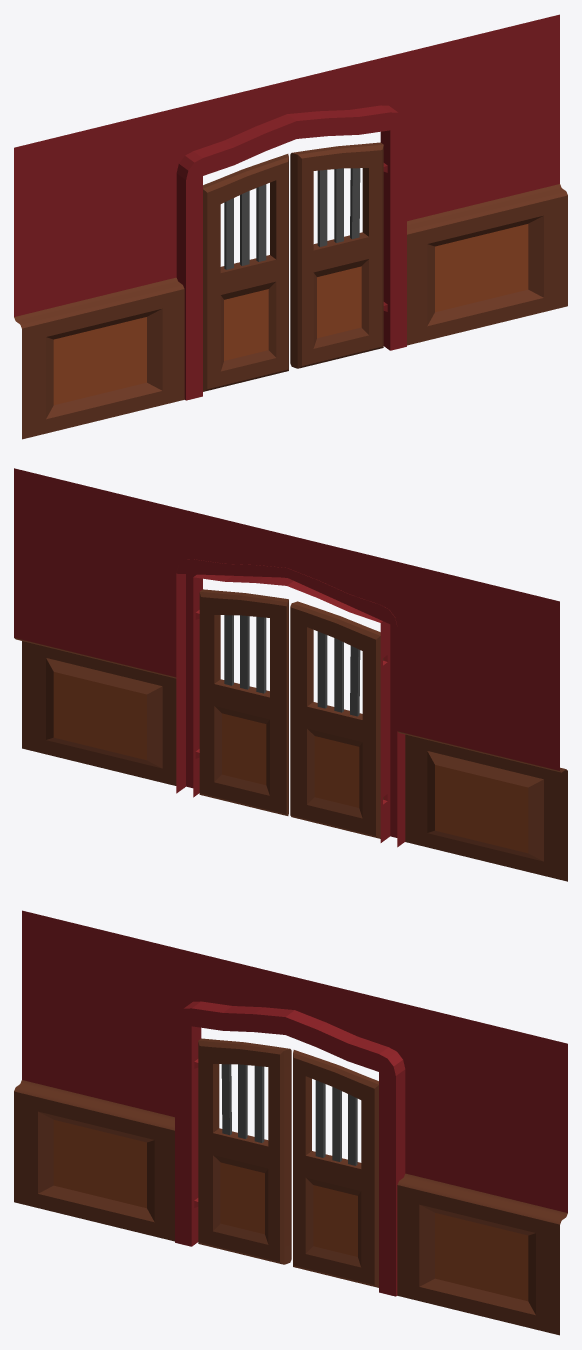
File: NewSaloonDoor.fbx
The picture shows the model from 3 angles, top to bottom: view 1: azimuth 30°, elevation 25°; view 2: azimuth 150°, elevation 25°; view 3: azimuth 330°, elevation 25°; orthographic projection.
Parts seen in each view (by area): view 1: Plane.012, Plane.014, Plane.011; view 2: Plane.012, Plane.011, Plane.014; view 3: Plane.012, Plane.011, Plane.014.
Boxes of the visible parts, x1=… form: Plane.012: x1=14, y1=14, x2=567, y2=439; Plane.014: x1=290, y1=142, x2=383, y2=368; Plane.011: x1=203, y1=154, x2=288, y2=391; Plane.012: x1=14, y1=468, x2=567, y2=881; Plane.011: x1=290, y1=601, x2=383, y2=838; Plane.014: x1=199, y1=589, x2=288, y2=815; Plane.012: x1=14, y1=910, x2=567, y2=1335; Plane.011: x1=198, y1=1038, x2=291, y2=1264; Plane.014: x1=293, y1=1050, x2=378, y2=1287.
Bounding box in the file's own units: 4 × 2 × 0.1226.
